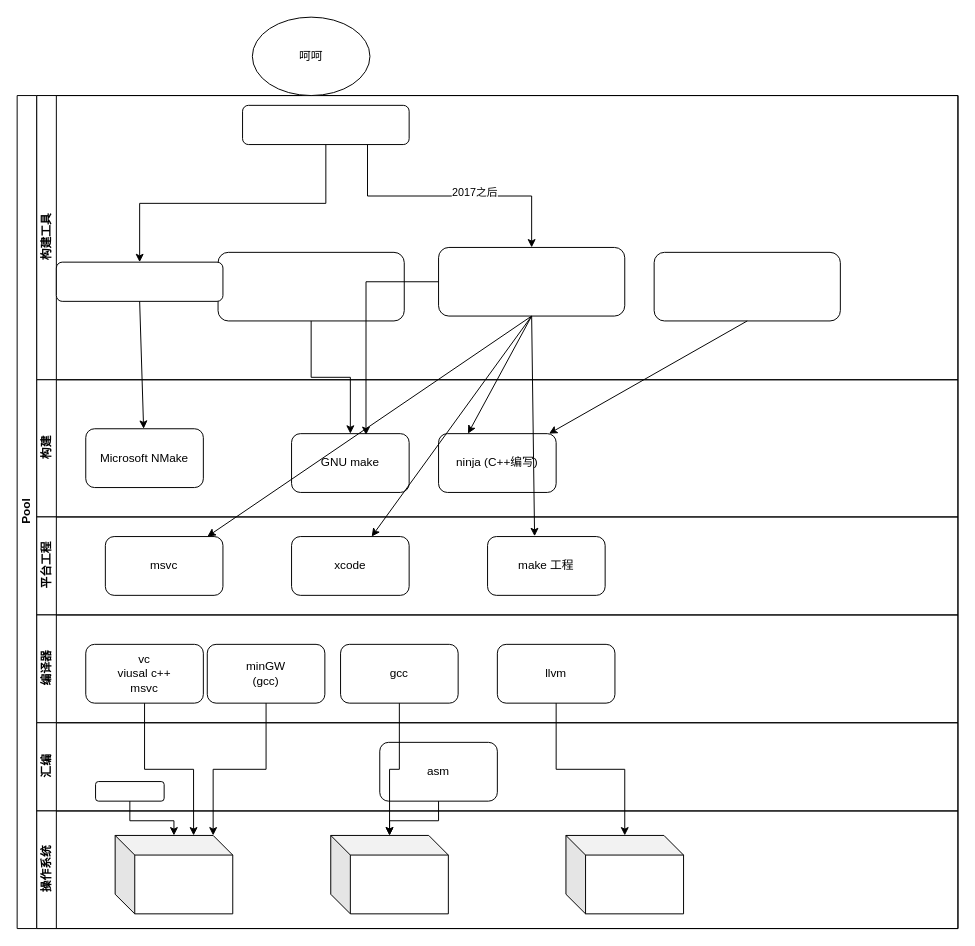
Some shapes in this 975 by 946 pixel diagram are drawn without their labels. Here are the shapes that lost their labels. From the top down, the centre of each, then its label:
[325,124]: Visual Studio
[139,281]: MSBuild (Visual Studio) Visual C++ Build Tools
[310,286]: GNU build system automake、 autoconf
[531,281]: Cmake cmakelist 生成 makefile
[746,286]: meson
[129,791]: nasm
[173,874]: windows
[389,874]: linux
[624,874]: mac
